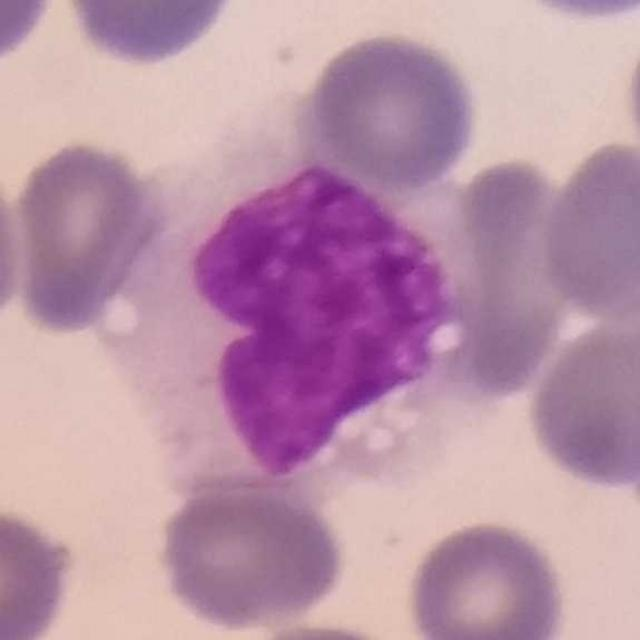mono: (97, 95, 495, 504)
